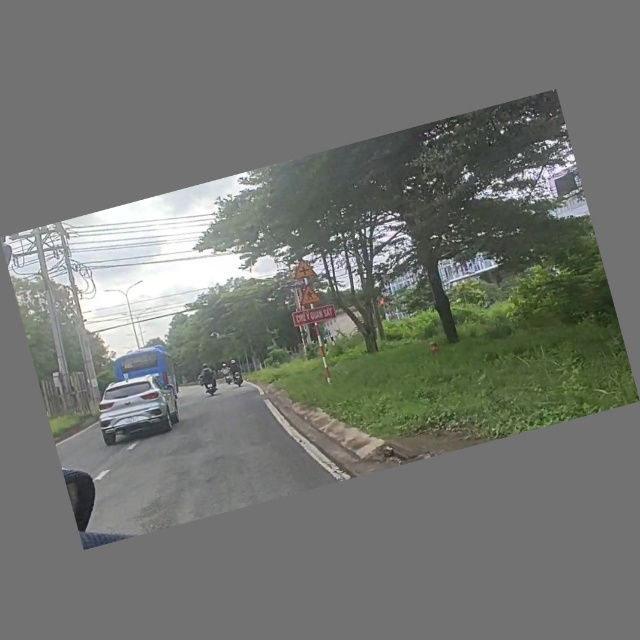W.205a: (289, 256, 321, 283)
W.224: (293, 281, 325, 308)
